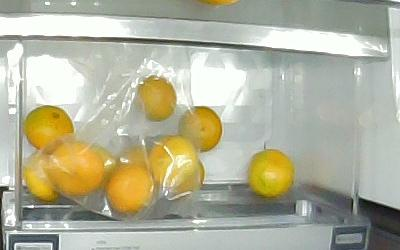tangerine: (21, 105, 73, 153), (248, 146, 296, 198), (180, 105, 222, 154), (136, 76, 177, 124)
tangerine_vinyl: (50, 143, 106, 196), (151, 135, 198, 193), (107, 164, 155, 214), (24, 152, 58, 203), (89, 145, 117, 189), (176, 159, 205, 197), (119, 146, 154, 173)
